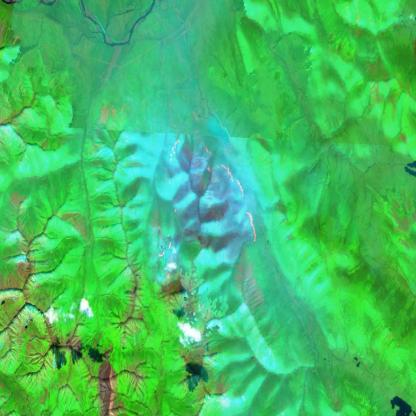fire: (152, 105, 260, 284)
